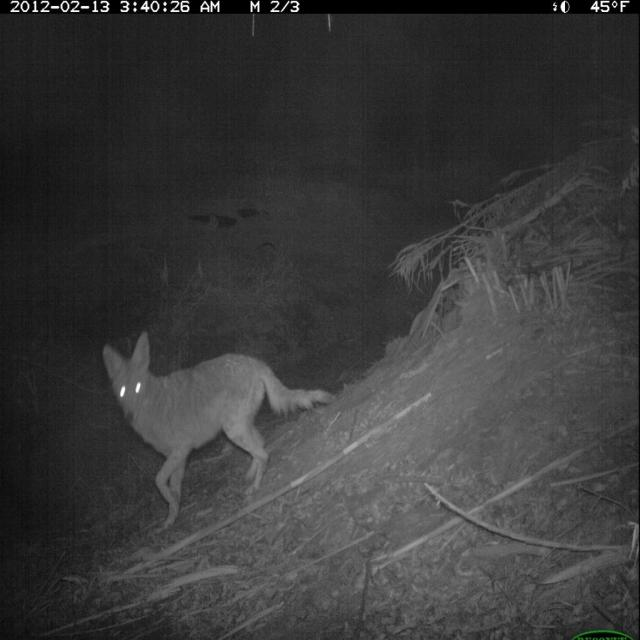coyote: (97, 328, 334, 528)
